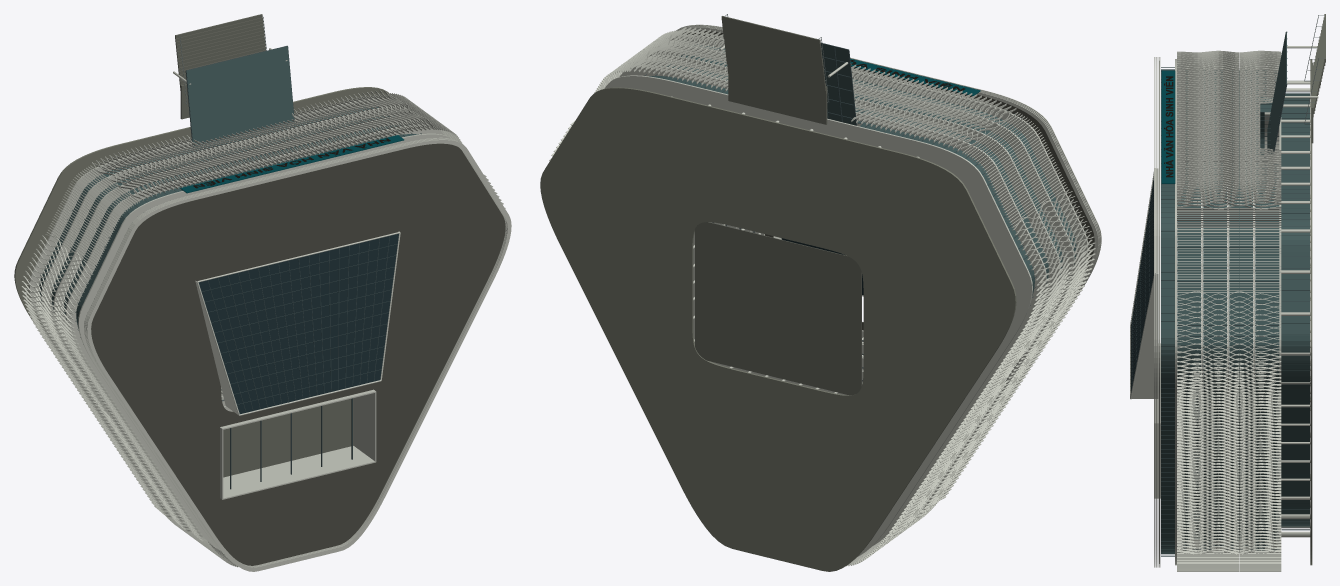
The model's file is student_culture_house.obj.
The picture shows the model from 3 angles, left to right: view 1: azimuth 30°, elevation 25°; view 2: azimuth 150°, elevation 25°; view 3: azimuth 270°, elevation 25°; orthographic projection. The views are drawn at different scales.
Visible parts, largest first — view 1: Student_Culture_House; view 2: Student_Culture_House; view 3: Student_Culture_House.
Part boxes in pixels (left/top/right/bottom): Student_Culture_House: left=14, top=14, right=511, bottom=571; Student_Culture_House: left=540, top=14, right=1101, bottom=571; Student_Culture_House: left=1130, top=14, right=1325, bottom=571.
Bounding box in the file's own units: 86.27 × 90.85 × 31.54.
